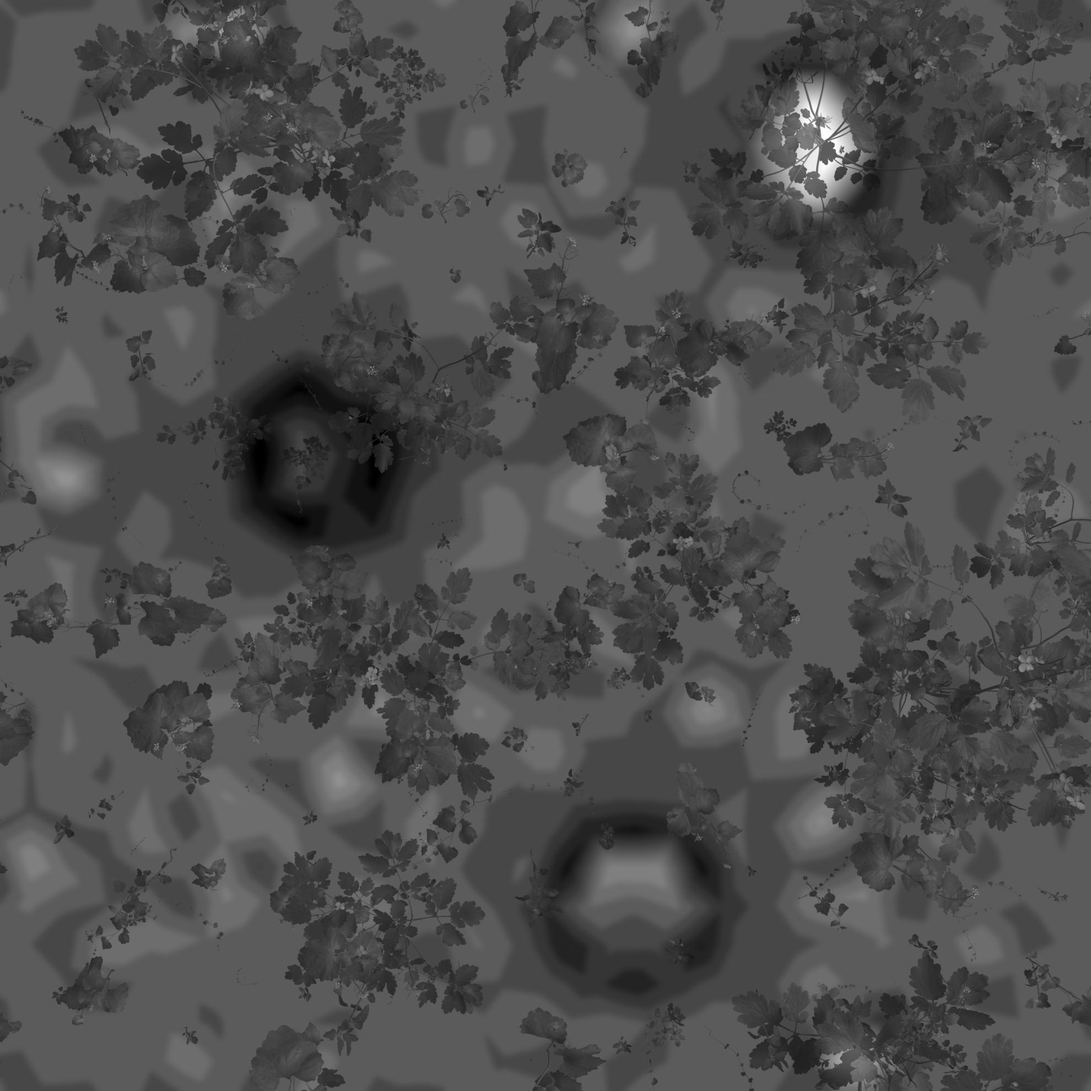landmine: (543, 807, 718, 973), (230, 374, 404, 538), (729, 60, 885, 223)
